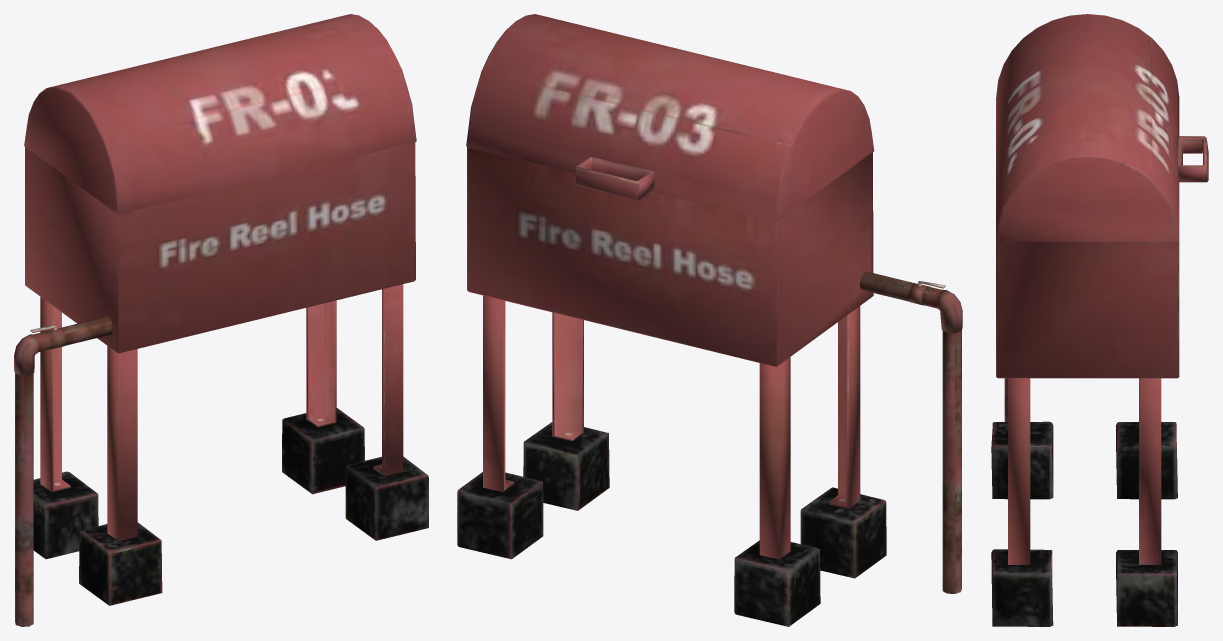
The model's file is hose-reel.lod0.glb.
3 views of the same model, side by side, from view 1: azimuth 30°, elevation 25°; view 2: azimuth 150°, elevation 25°; view 3: azimuth 270°, elevation 25° (orthographic). The views are drawn at different scales.
Parts seen in each view (by area): view 1: Cube.037_Material.024_0; view 2: Cube.037_Material.024_0; view 3: Cube.037_Material.024_0.
Part boxes in pixels (x1,y1,x2,y2): Cube.037_Material.024_0: [14, 14, 428, 626]; Cube.037_Material.024_0: [457, 14, 962, 626]; Cube.037_Material.024_0: [991, 14, 1208, 626].
Bounding box in the file's own units: 1.4 × 1.6 × 0.6669.
Materials: 1 (1 with a texture image).
